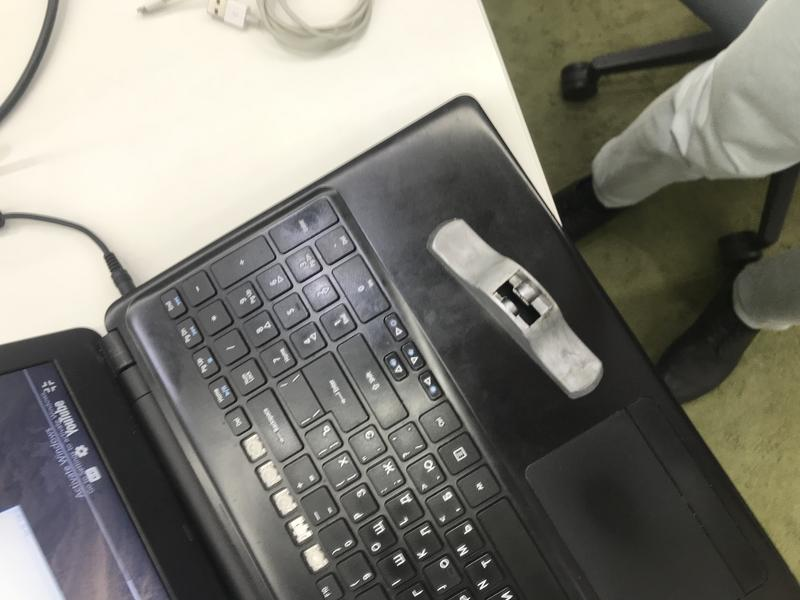zapchast: (422, 208, 616, 408)
